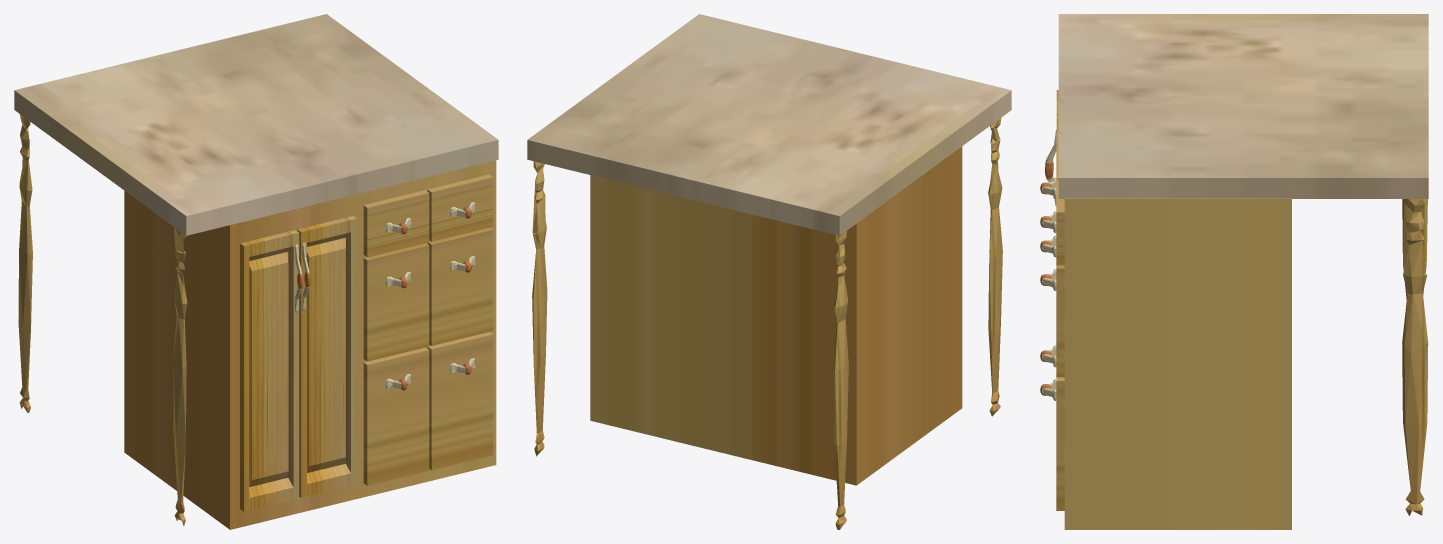
The model's file is sh-contrib-kitchen-island.glb.
3 renders of one model, left to right at view 1: azimuth 30°, elevation 25°; view 2: azimuth 150°, elevation 25°; view 3: azimuth 270°, elevation 25°, orthographic. The views are drawn at different scales.
Visible parts, largest first — view 1: PolyMesh_1, PolyMesh_2, Spline_Mesh_4, PolyMesh_1_3; view 2: PolyMesh_1, PolyMesh_2; view 3: PolyMesh_1, PolyMesh_2, Spline_Mesh_4, PolyMesh_1_3.
Part boxes in pixels (<box>): PolyMesh_1: <box>18,114,496,529</box>; PolyMesh_2: <box>14,14,498,235</box>; Spline_Mesh_4: <box>295,202,475,388</box>; PolyMesh_1_3: <box>297,207,471,390</box>; PolyMesh_1: <box>532,118,1002,529</box>; PolyMesh_2: <box>527,14,1011,235</box>; PolyMesh_1: <box>1056,90,1428,529</box>; PolyMesh_2: <box>1058,14,1428,198</box>; Spline_Mesh_4: <box>1041,130,1056,400</box>; PolyMesh_1_3: <box>1040,159,1053,395</box>.
Size of the model in its own units: 1 by 1 by 0.9999.
4 materials, 3 textured.
